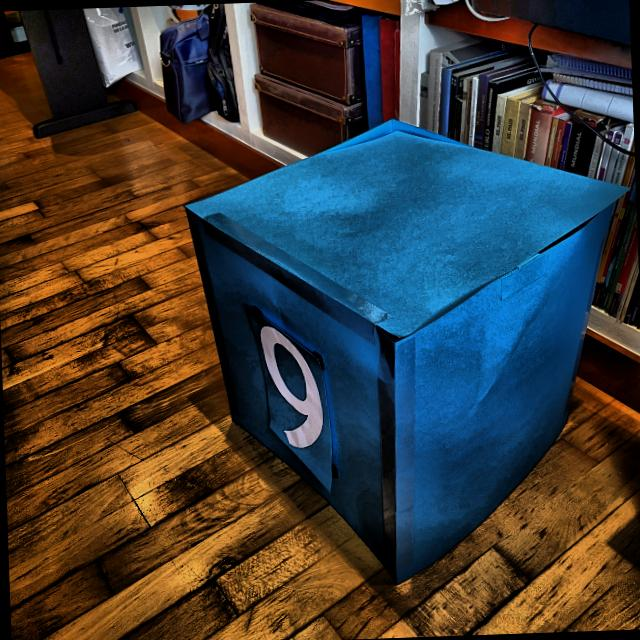blue box: (175, 104, 640, 593)
nine: (252, 315, 338, 457)
